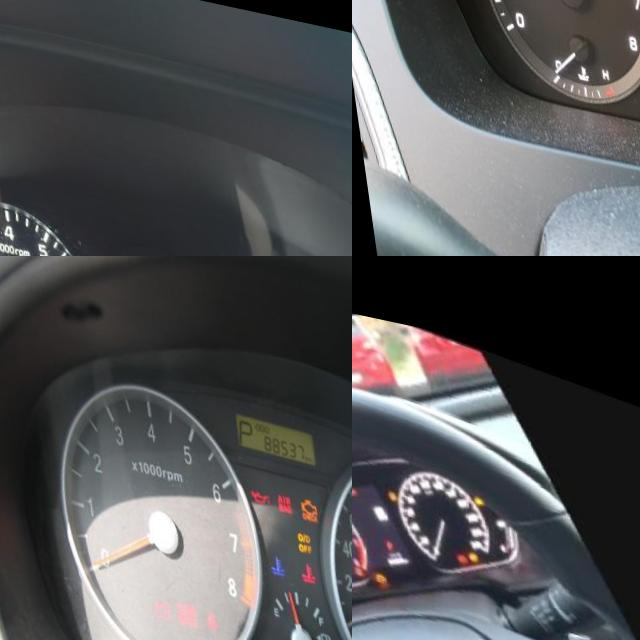Engine cooling system: (290, 547, 305, 568)
